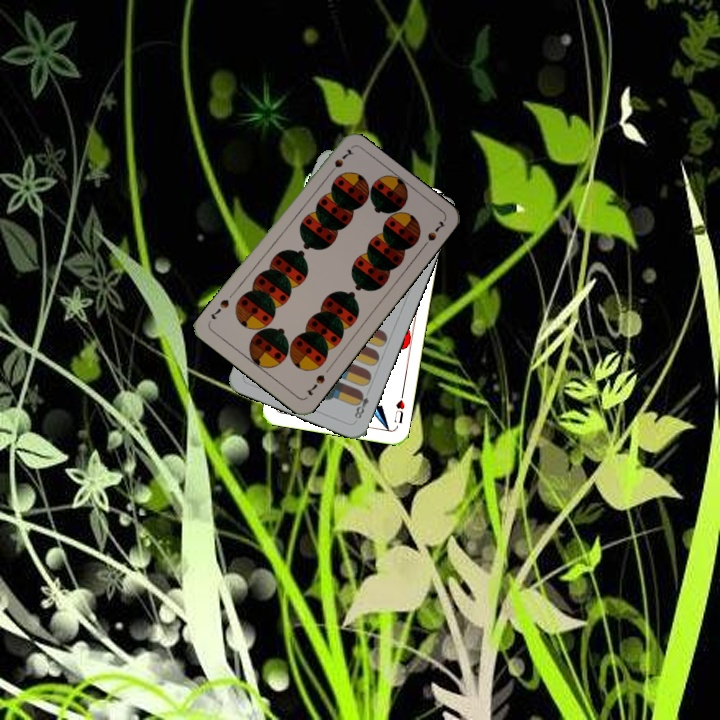E8: (350, 385, 373, 421)
HU: (390, 389, 407, 426)
S7: (323, 145, 355, 179), (302, 370, 328, 398)
